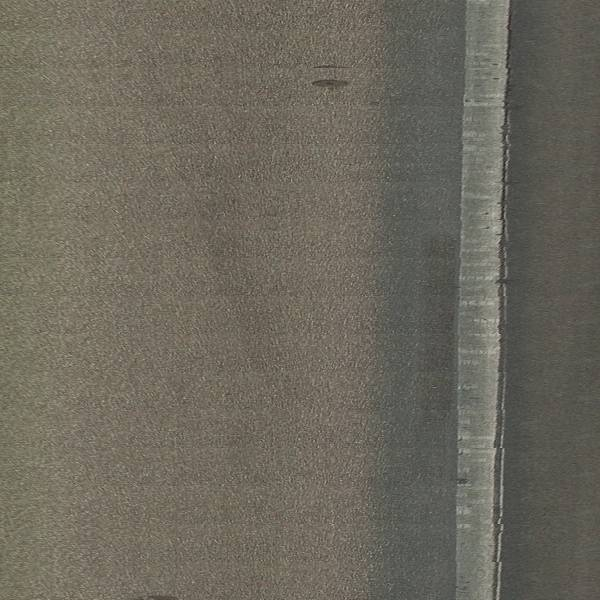road_damage: (303, 72, 359, 94)
